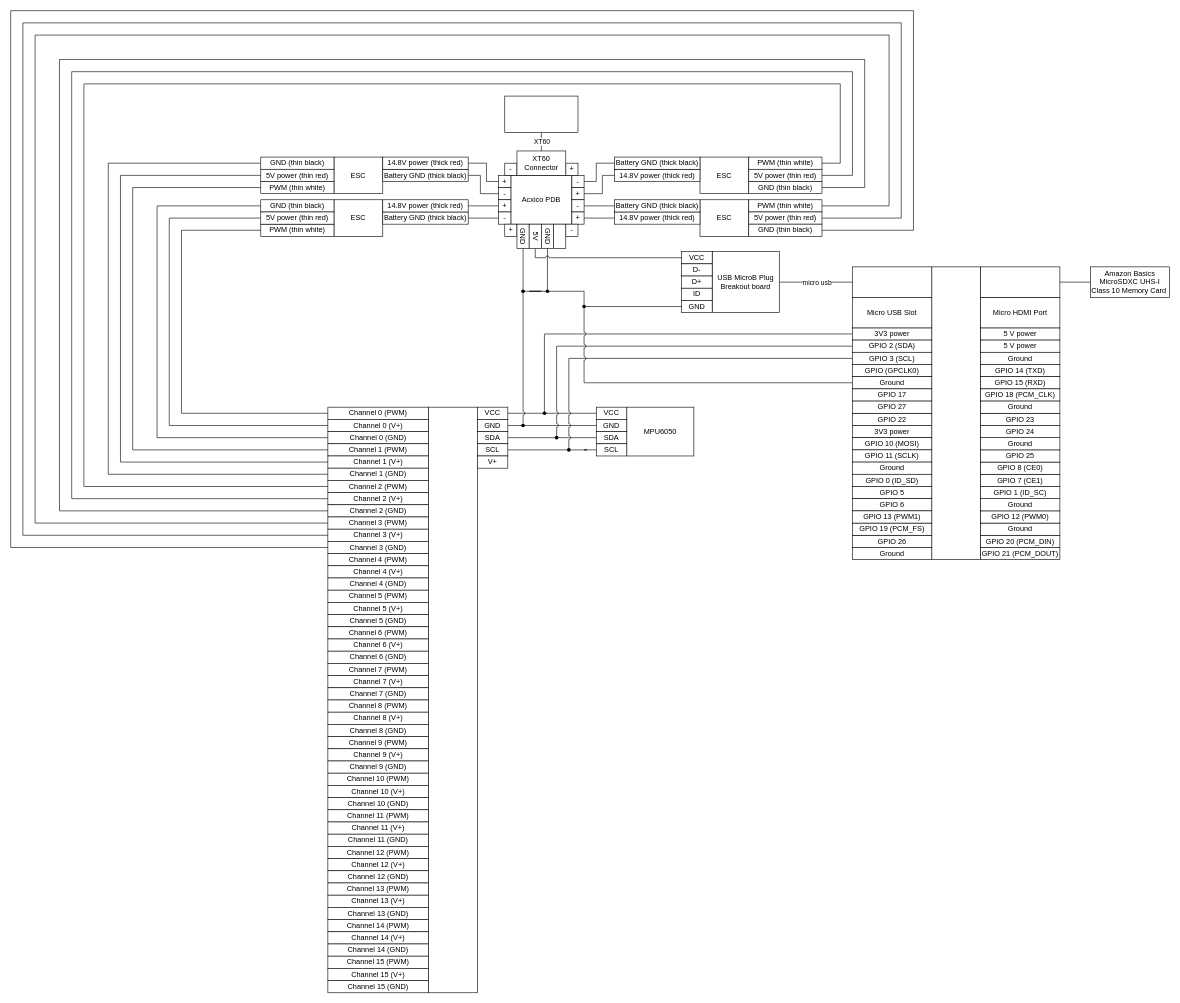
This 1180x1003 diagram has some shape labels left out. Here are the shapes that lost their labels. From the top down, the box of each, then its label:
(504, 95, 578, 133): OVONIC LiPo 4S Battery
(553, 224, 566, 249): 12V
(852, 266, 932, 297): Micro Power Slot
(980, 266, 1060, 297): Micro SD Card
(931, 266, 981, 560): Rasberry Pi Zero
(428, 407, 477, 993): PCA9685 (I2C PWM Driver)
